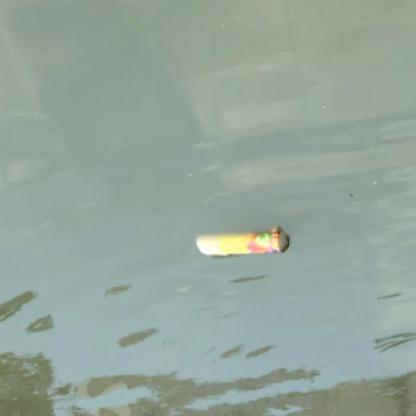Metal: (192, 224, 290, 260)
